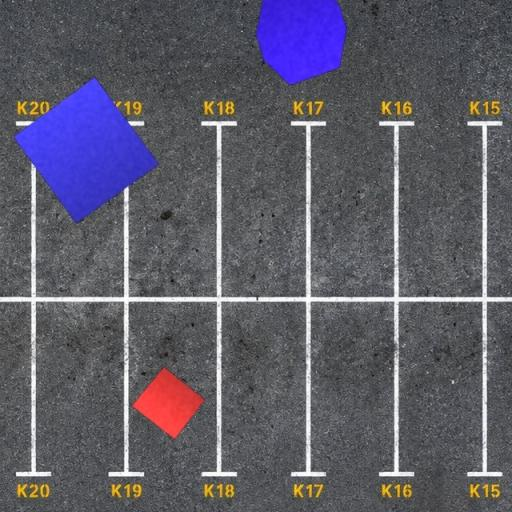BLUE_SQUARE: (13, 76, 160, 224)
RED_SQUARE: (130, 366, 206, 440)
